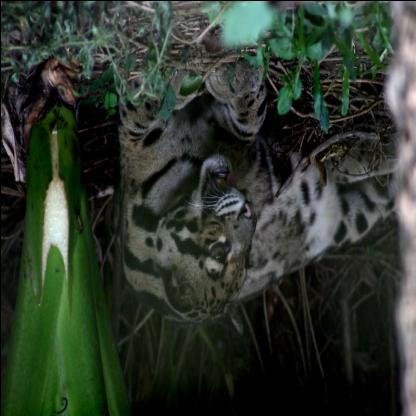leopard: (153, 147, 254, 329)
